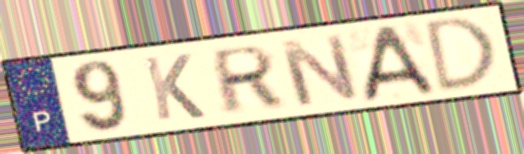9: (71, 56, 134, 134)
A: (360, 22, 440, 105)
D: (423, 14, 500, 96)
K: (139, 51, 209, 124)
N: (274, 32, 364, 109)
R: (210, 42, 285, 118)
